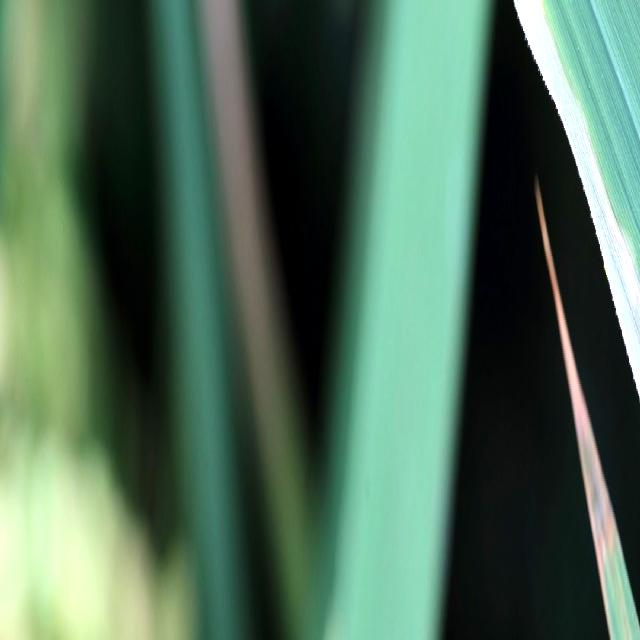BLB: (516, 0, 639, 388)
